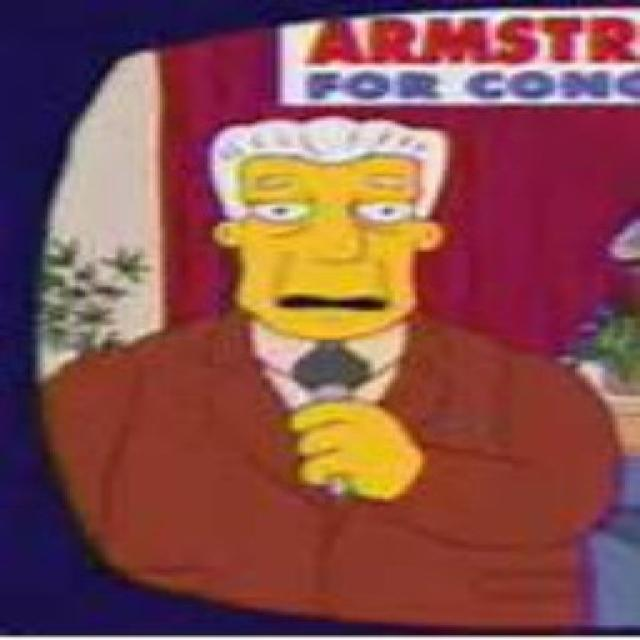Kent Brockman: (204, 113, 456, 338)
